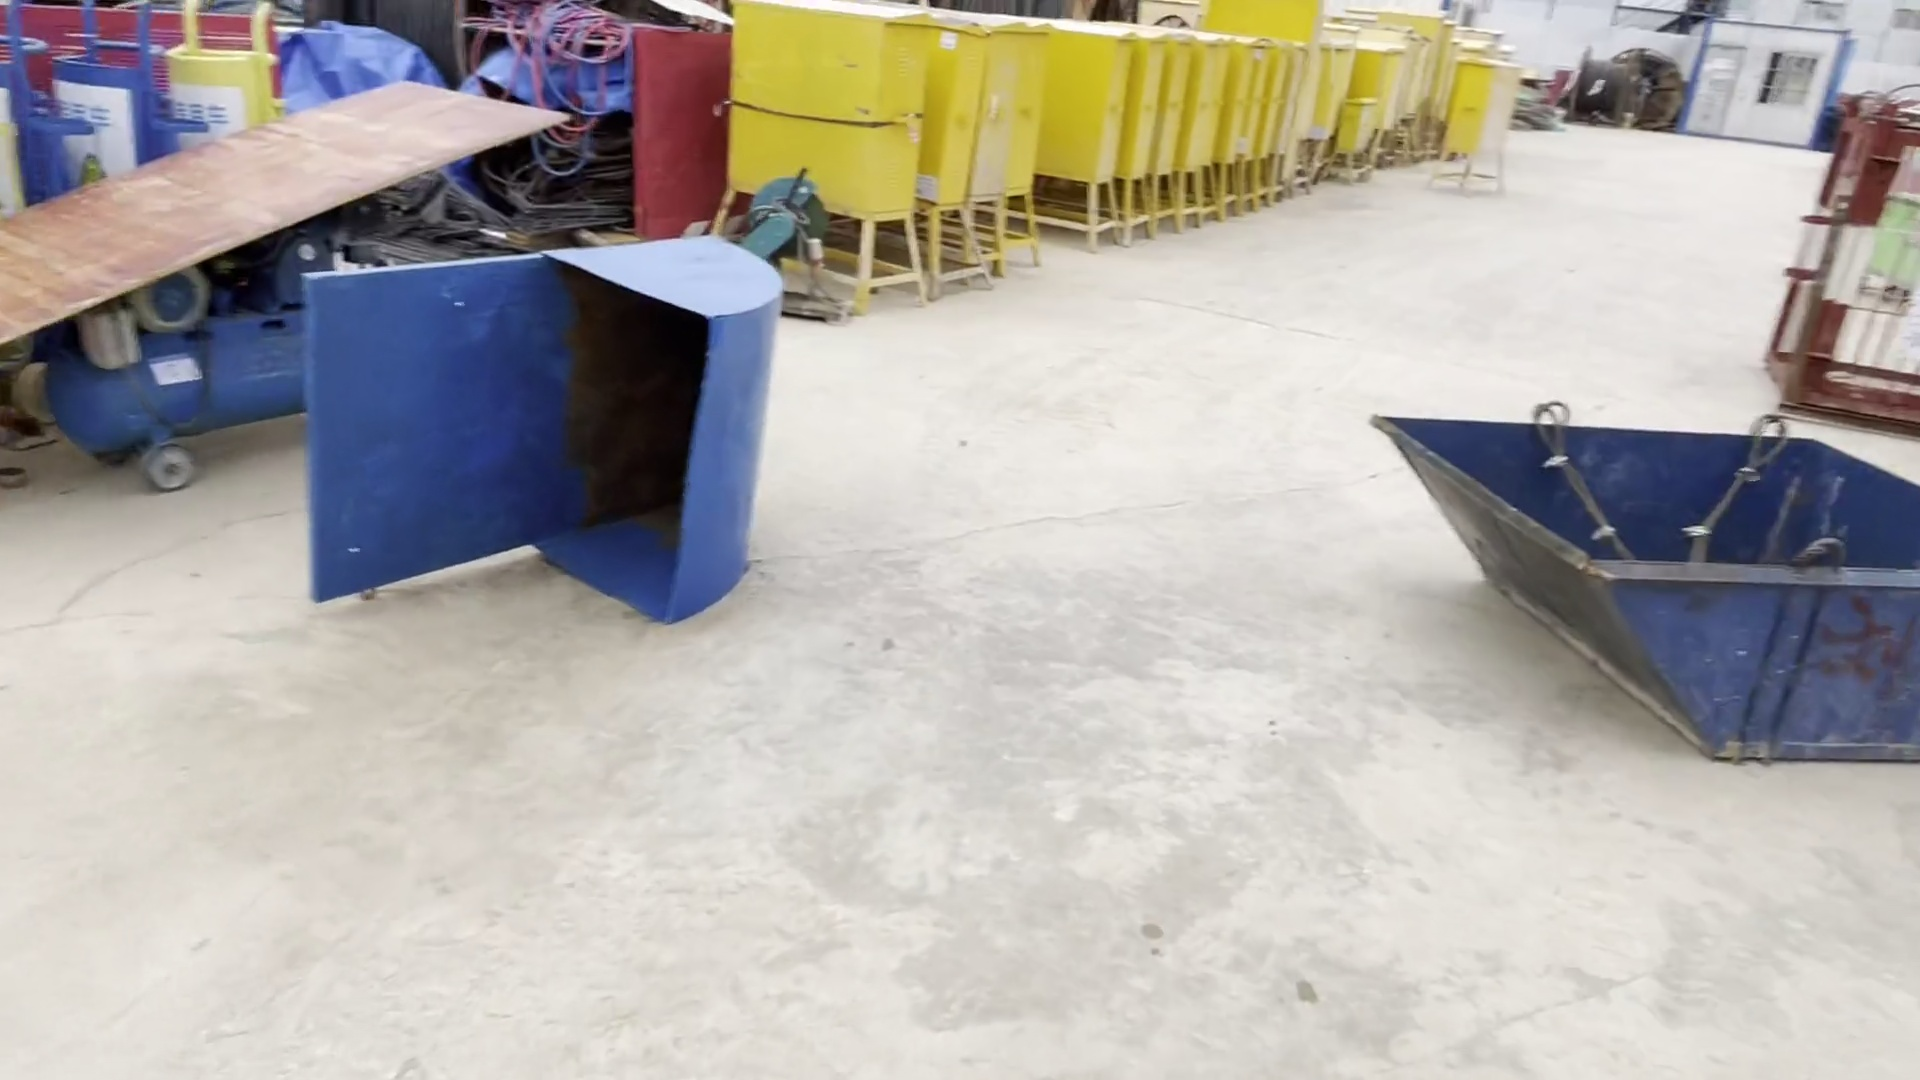ebox: (708, 12, 913, 301), (1036, 18, 1133, 260), (971, 13, 1036, 294), (916, 3, 975, 305), (1435, 55, 1501, 200), (1117, 36, 1159, 244), (1153, 37, 1189, 237), (1189, 36, 1224, 233), (1320, 95, 1378, 183)
hopper: (1356, 364, 1920, 793)
